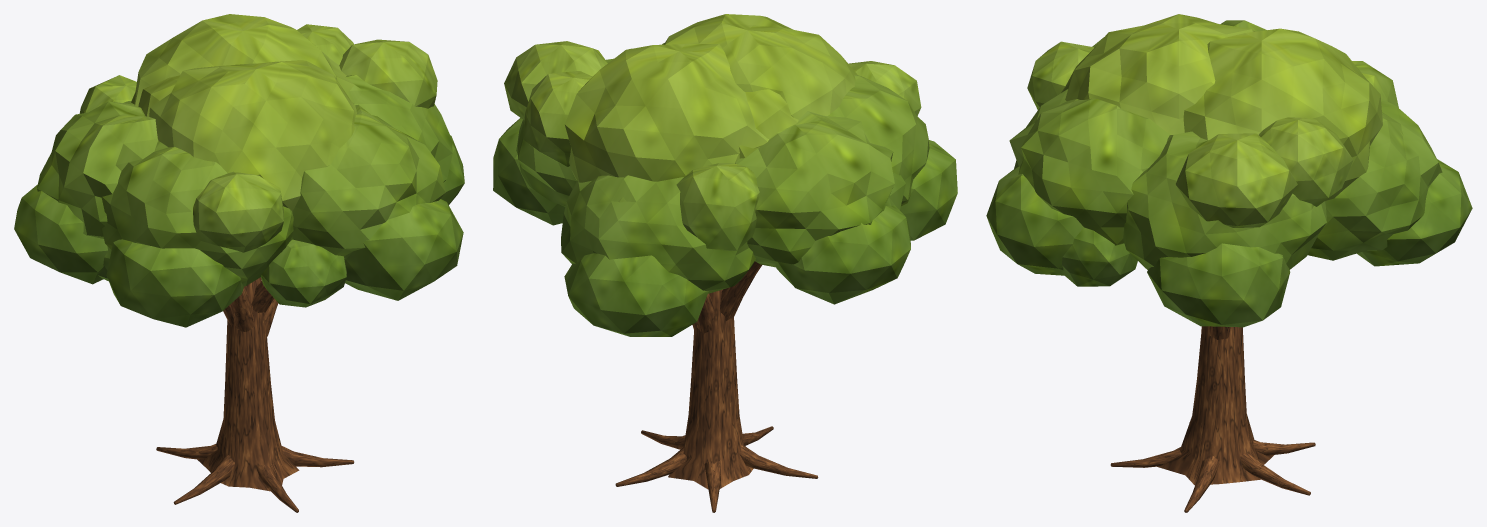
File: arbre_rond.glb
The picture shows the model from 3 angles, left to right: view 1: azimuth 30°, elevation 25°; view 2: azimuth 150°, elevation 25°; view 3: azimuth 270°, elevation 25°; orthographic projection. The views are drawn at different scales.
Parts seen in each view (by area): view 1: arbre_rond; view 2: arbre_rond; view 3: arbre_rond.
Boxes of the visible parts, left/top/right/bottom form: arbre_rond: left=14, top=14, right=464, bottom=512; arbre_rond: left=493, top=14, right=957, bottom=512; arbre_rond: left=986, top=14, right=1472, bottom=512.
Size of the model in its own units: 6.05 by 5.97 by 6.02.
Materials: 2 (2 with a texture image).
